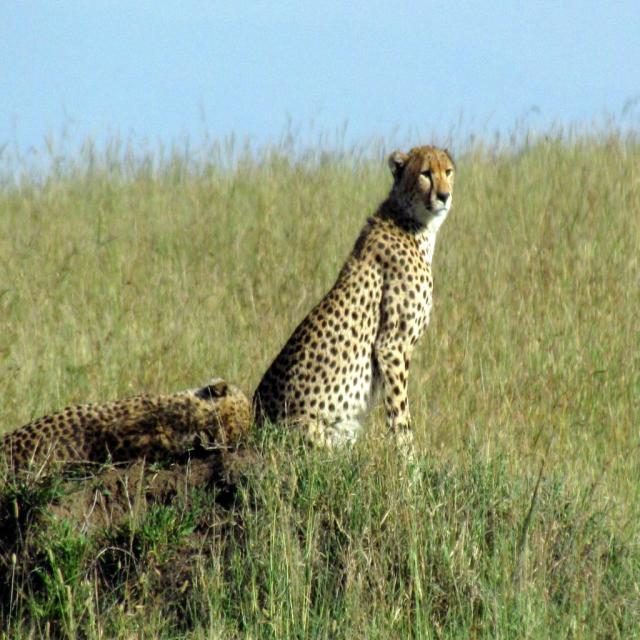Cheetah: (244, 118, 476, 512)
